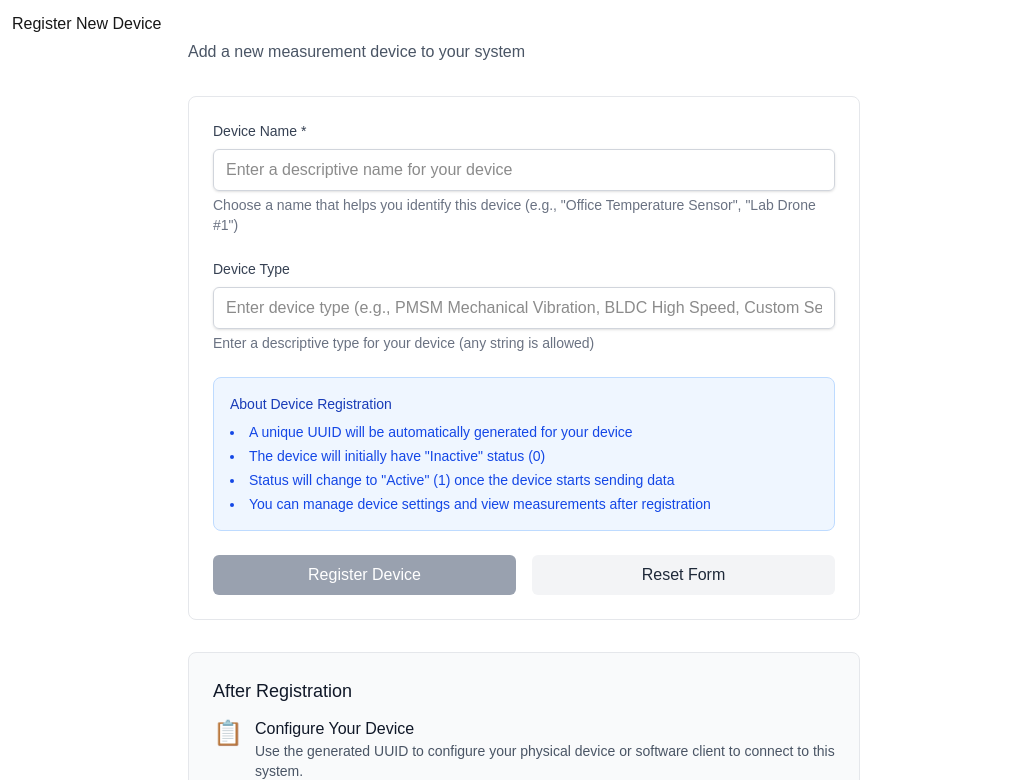
Test: DeviceRegisterPage › handles registration error
# Fill out the form
Type "Test Device" into the field labelled "Device Name *" at point(524, 170), box [213, 149, 835, 191]
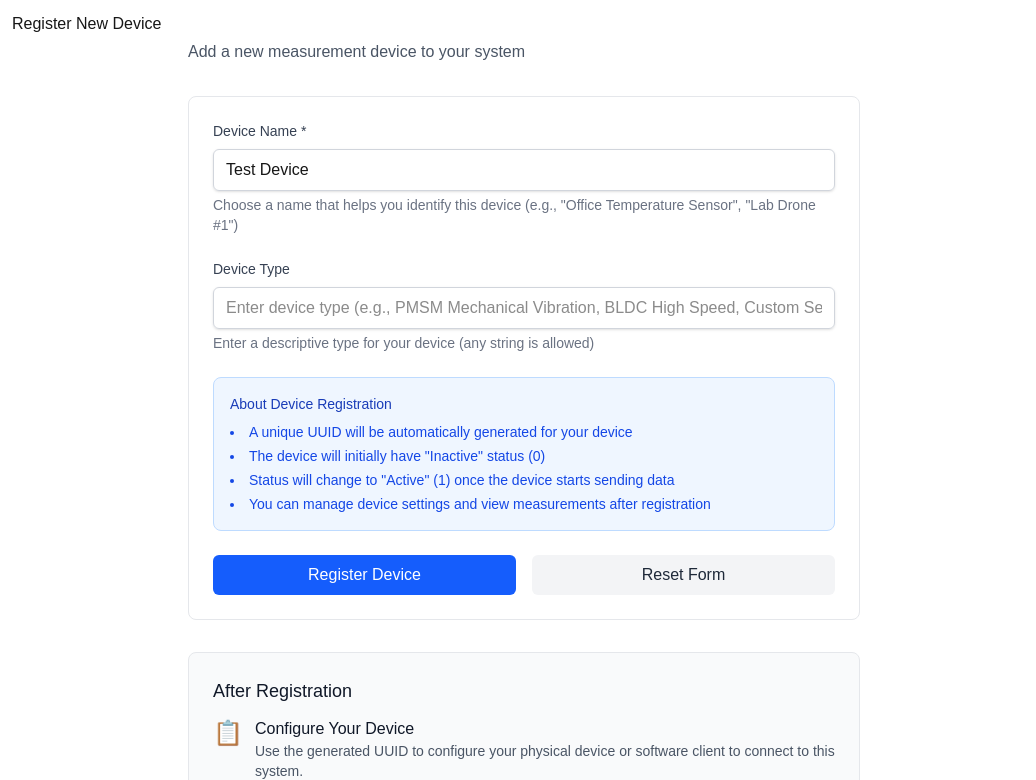
Replace the text in the field labelled "Device Type" with "pmsm-mechanical-vibration" at point(524, 308), box [213, 287, 835, 329]
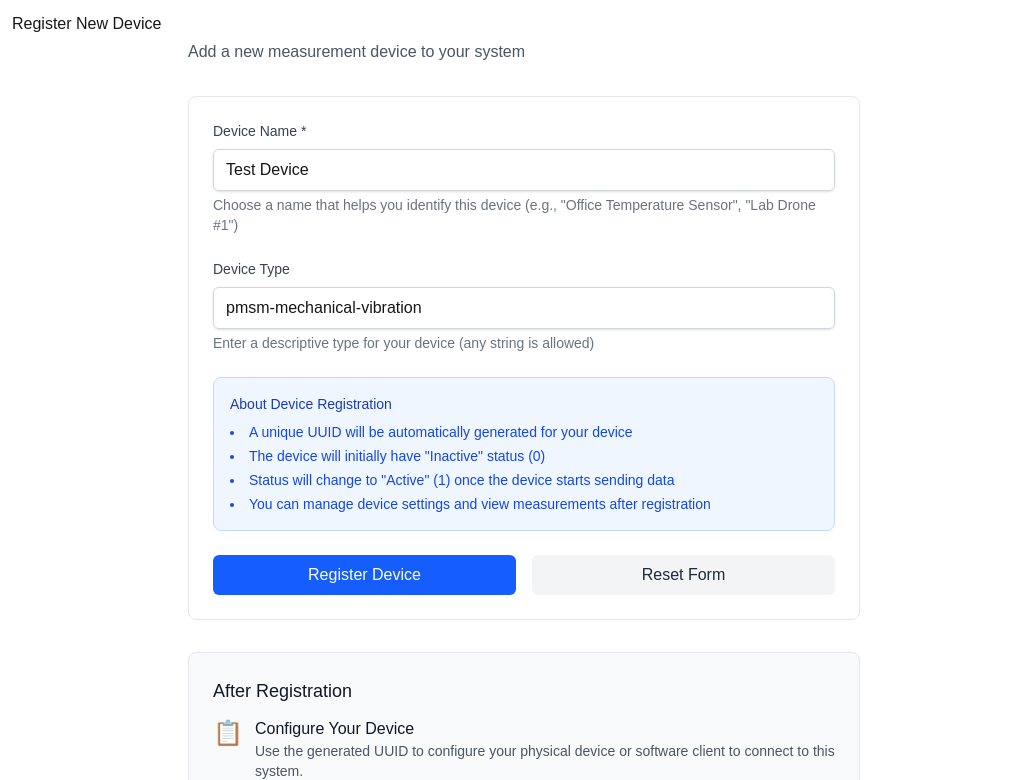
# Submit the form
Click the button "Register Device" at point(364, 575), box [213, 555, 516, 595]
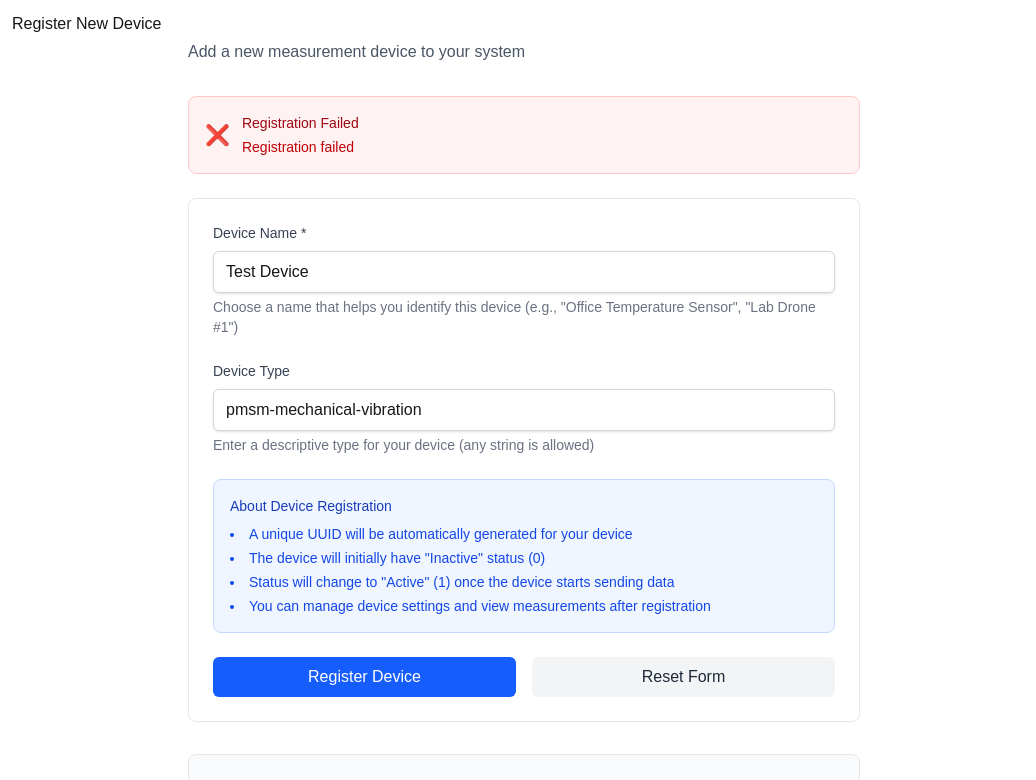
Check: the number of headings "Registration Failed" is 2, box [242, 113, 359, 133]; [242, 137, 359, 157]
